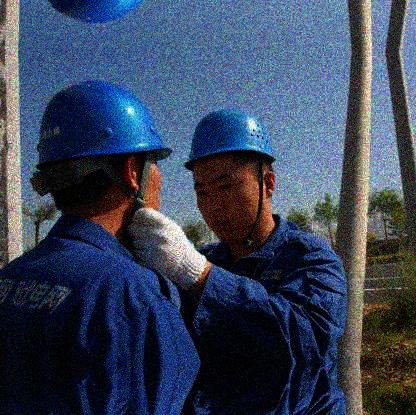helmet: (32, 80, 165, 227), (186, 108, 275, 243)
